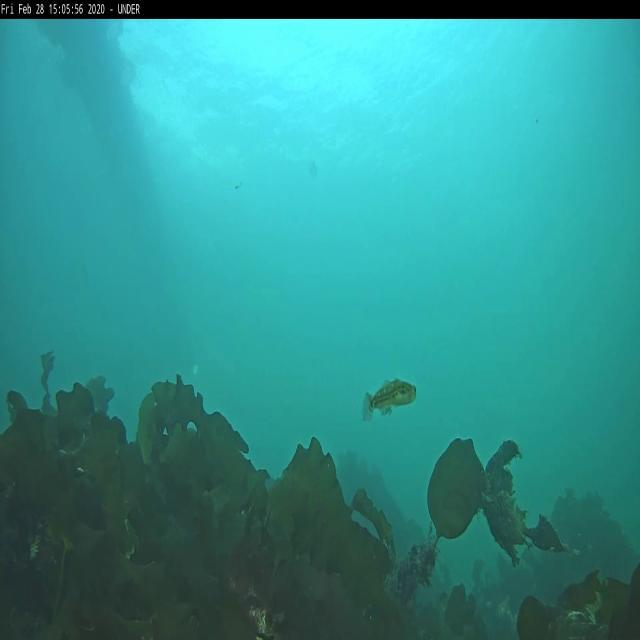fish: (363, 382, 416, 419)
